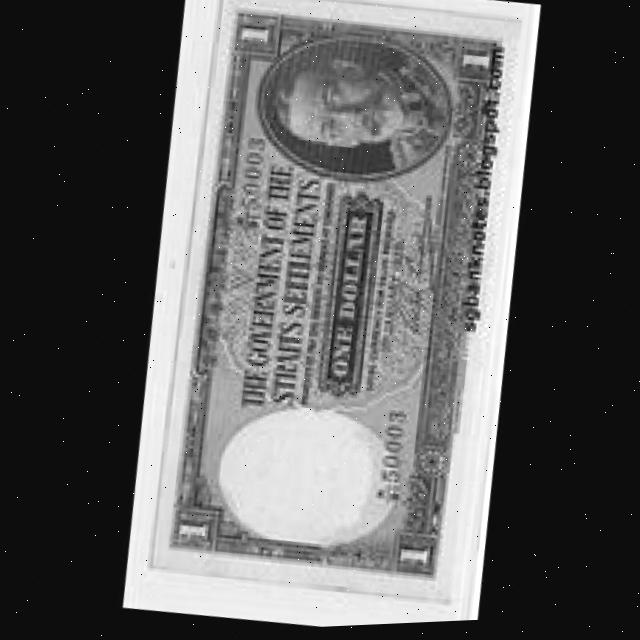banknote: (97, 0, 558, 637), (158, 498, 226, 566), (224, 6, 289, 71), (374, 529, 443, 590), (443, 44, 500, 93)
